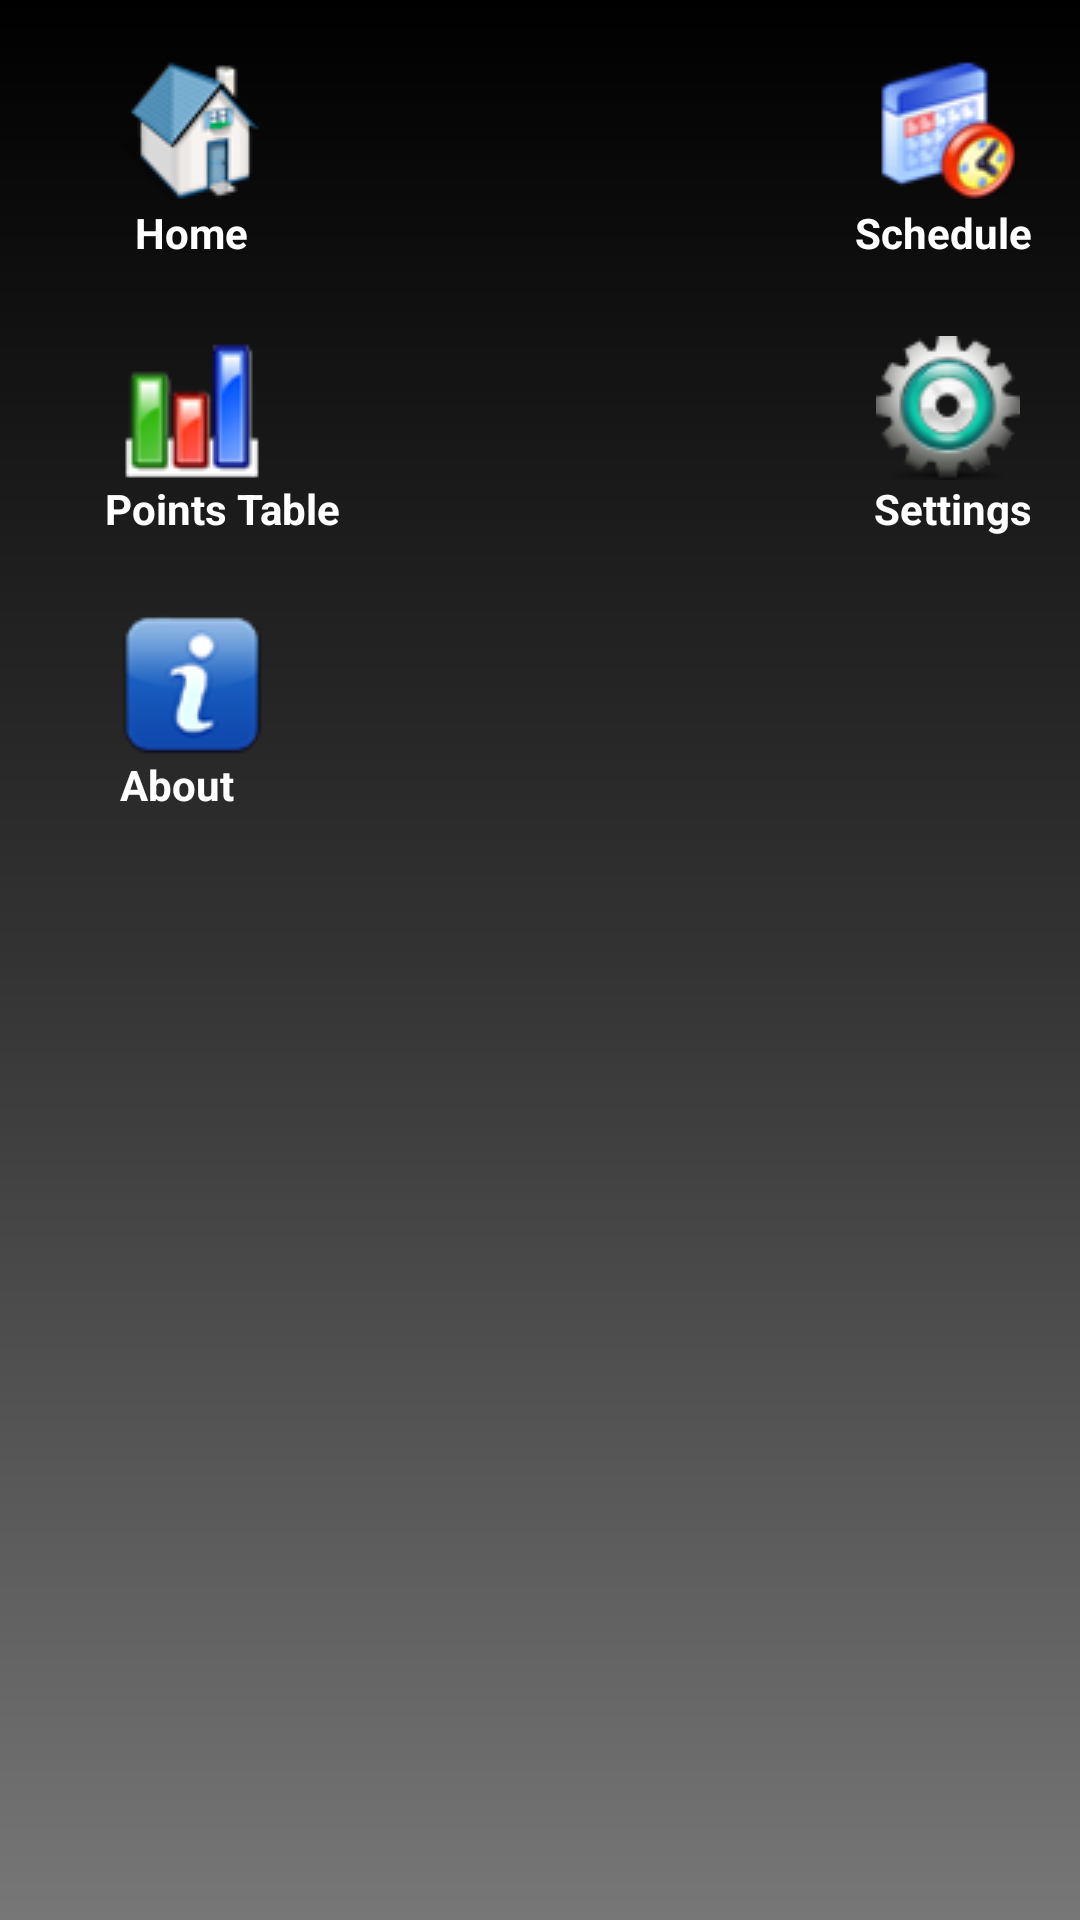

Named icons in this screenshot (1080 × 1920) and their bounding boxes, (x1, y1, x2, y2):
stats: (125, 344, 259, 478)
